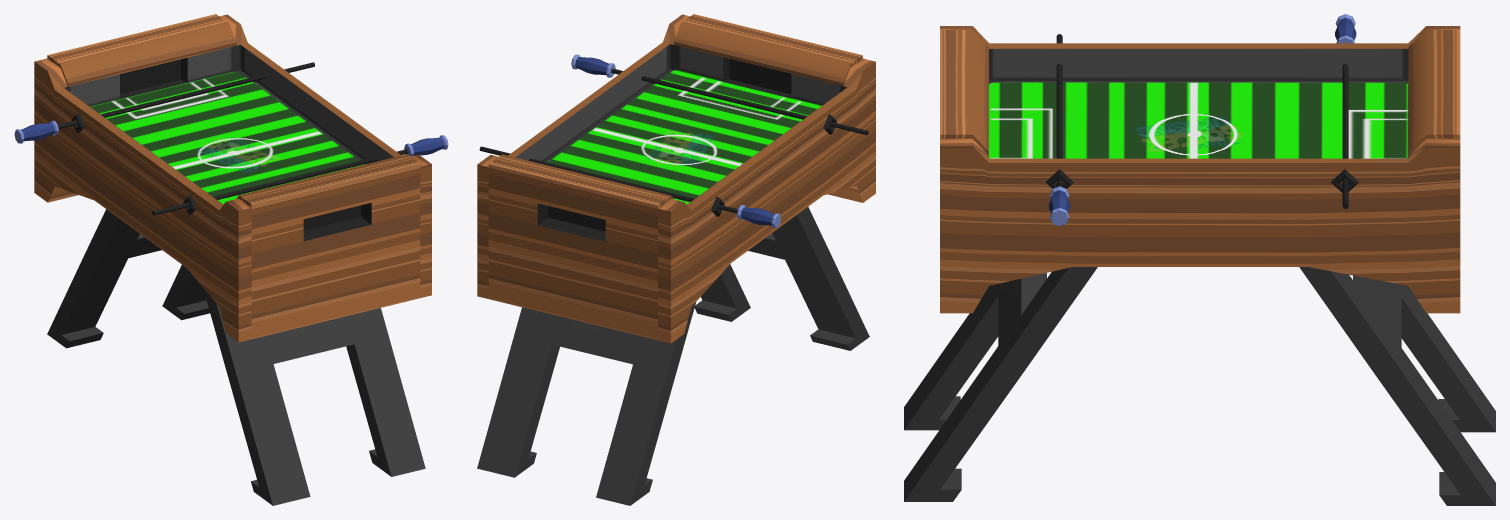
Rendered from Foosball Table Updated (1) 1.fbx.
The picture shows the model from 3 angles, left to right: view 1: azimuth 30°, elevation 25°; view 2: azimuth 150°, elevation 25°; view 3: azimuth 270°, elevation 25°; orthographic projection. The views are drawn at different scales.
Parts seen in each view (by area): view 1: Main_body, Legs, Handle2, Handle3; view 2: Main_body, Legs, Handle3, Handle2; view 3: Main_body, Legs, Handle3, Handle2.
Part boxes in pixels (x1,y1,x2,y2): Main_body: (34,14,431,342); Legs: (47,209,425,505); Handle2: (14,62,314,143); Handle3: (152,135,448,215); Main_body: (477,14,875,343); Legs: (477,207,869,505); Handle3: (571,54,868,135); Handle2: (479,146,781,227); Main_body: (940,26,1460,313); Legs: (904,267,1495,505); Handle3: (1049,34,1070,226); Handle2: (1335,14,1356,208).
Bounding box in the file's own units: 1.14 × 1.01 × 1.46.
